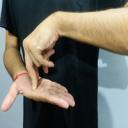hand: (21, 11, 58, 91), (0, 74, 75, 113)
